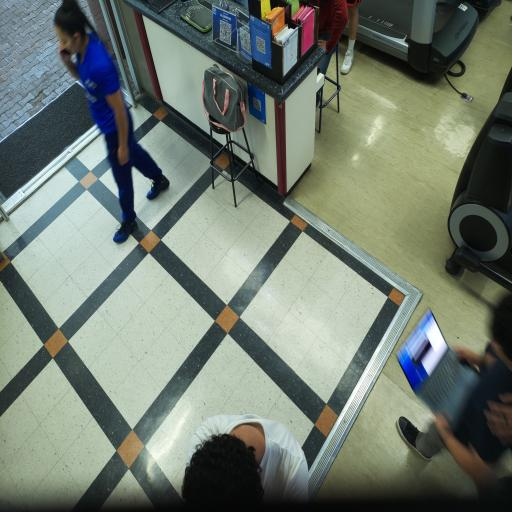person: (55, 0, 169, 243), (398, 295, 511, 486), (182, 415, 308, 507), (316, 0, 348, 74), (341, 0, 360, 74), (485, 393, 511, 445)
